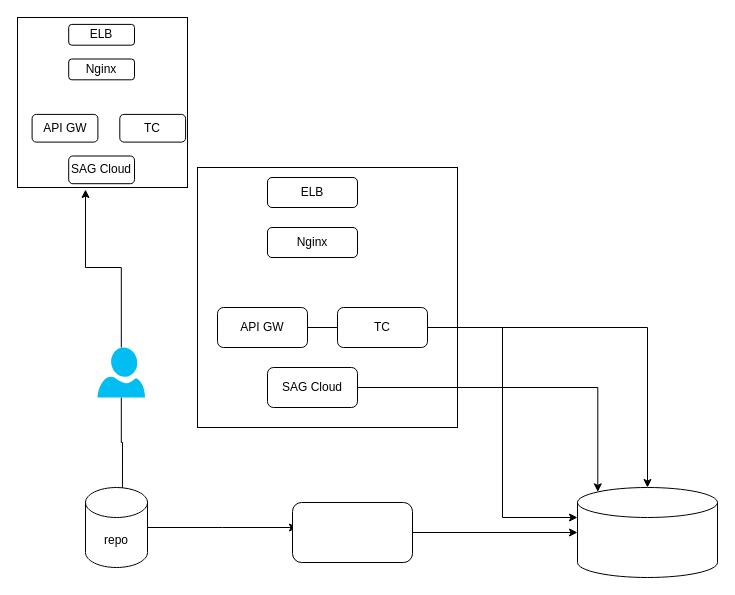
Some shapes in this 735 by 595 pixel diagram are drawn without their labels. Each missing label, with the box of its shape:
API GW Dev Env: (196, 166, 458, 428)
API GW Image: (292, 502, 412, 562)
API GW local Dev envirement: (16, 16, 188, 188)
ECR/DockerHub/jFrog/: (576, 486, 718, 578)
